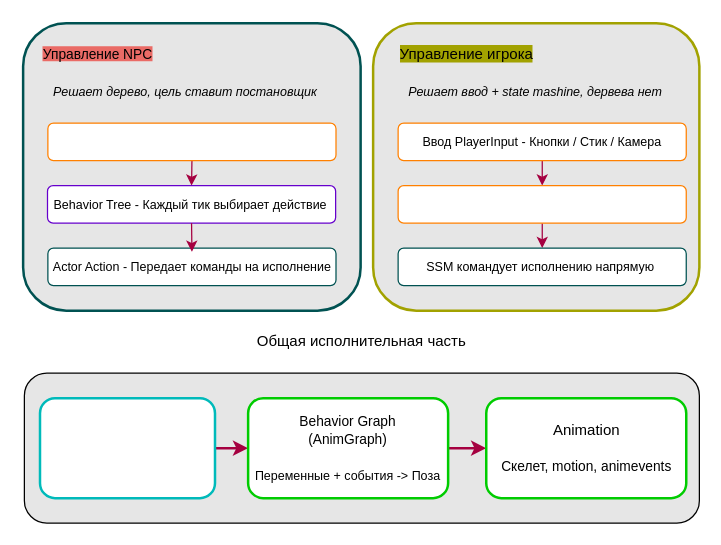
Image size: 721x545. Some labels were removed from this diagram. The shapes that lost their labels are listed below. From the top down, each one's centre as x and y in pixels, then its label:
(191,141): Постановщик - создает NPC, выдает цель
(541,203): State Machine CR4Player - Состояния
(127,447): Movement Скорость и наппрвление, навигация, удержание на navmesh
